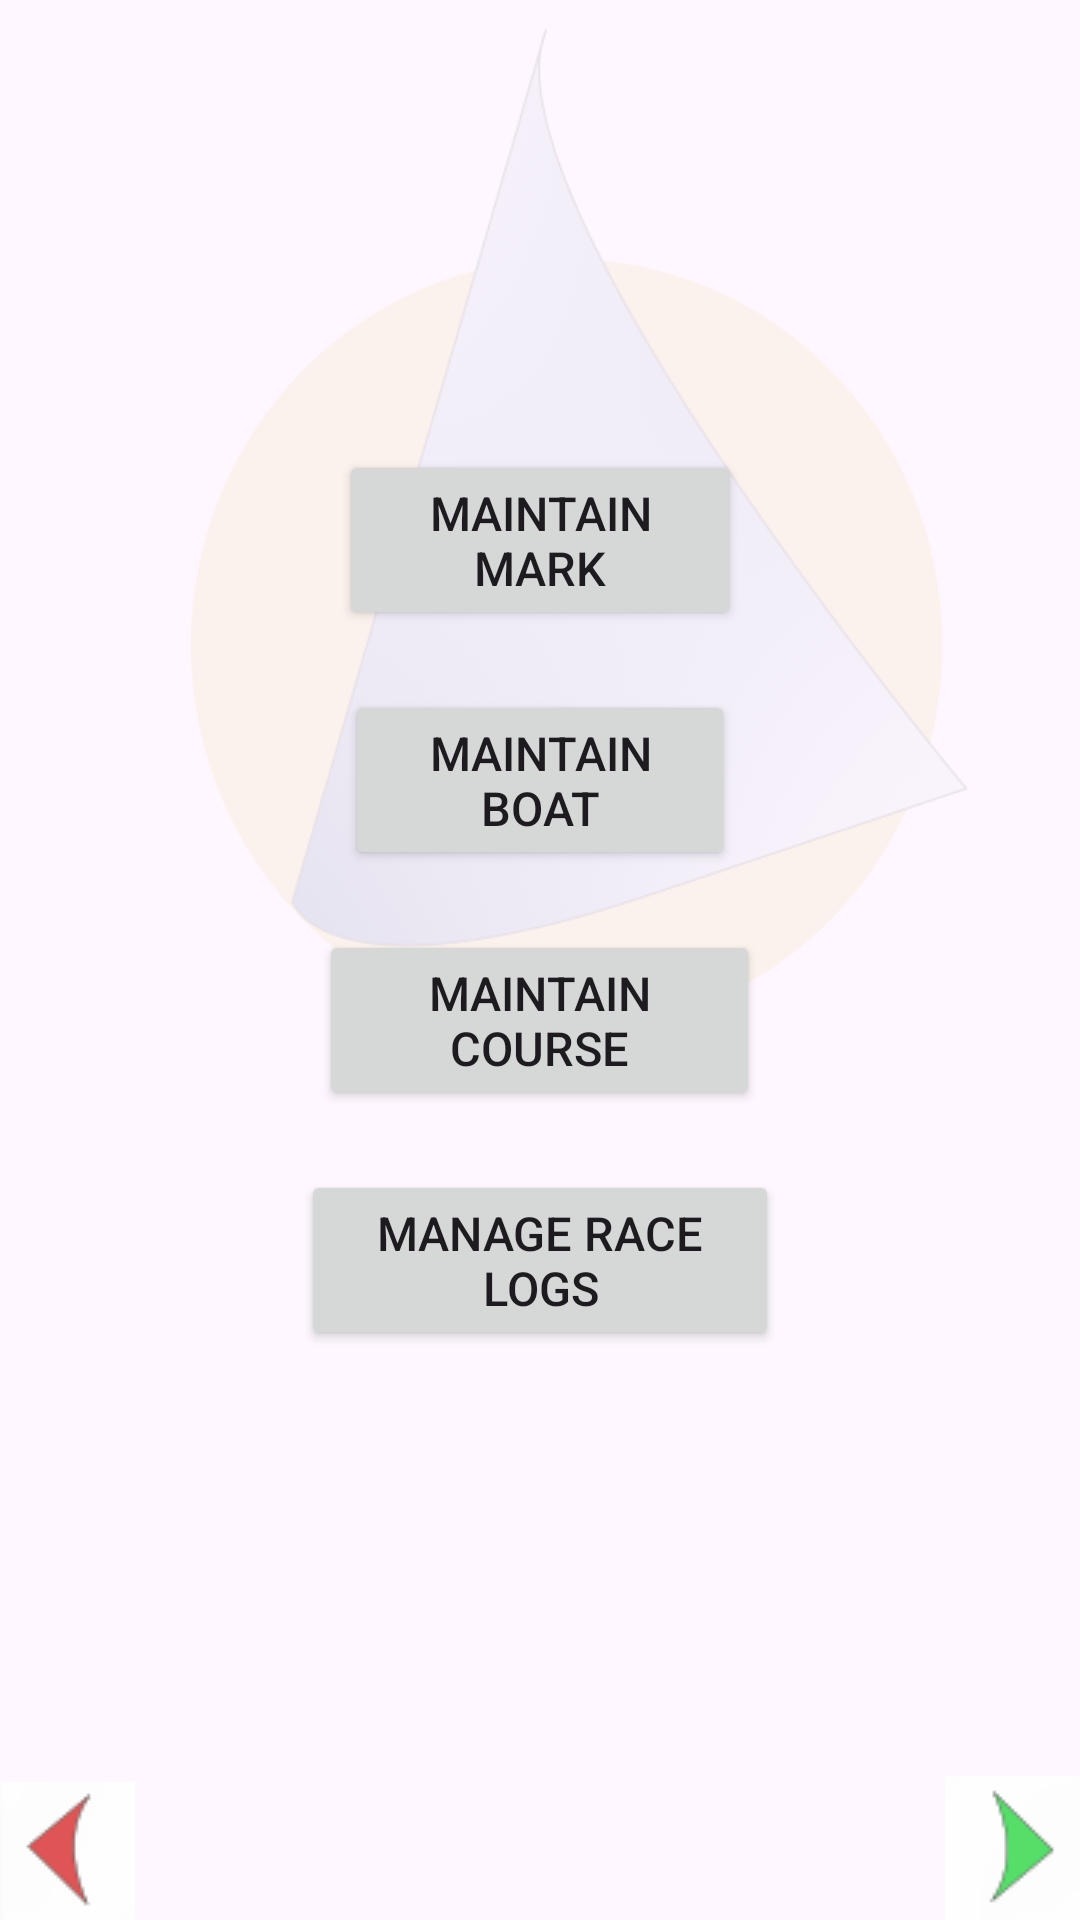

Locate icon controls on the screen. Image size 1080×1920, boxes as (x1, y1, x2, y2).
Left Nav: (26, 1793, 91, 1905)
Right Nav: (990, 1790, 1054, 1902)
